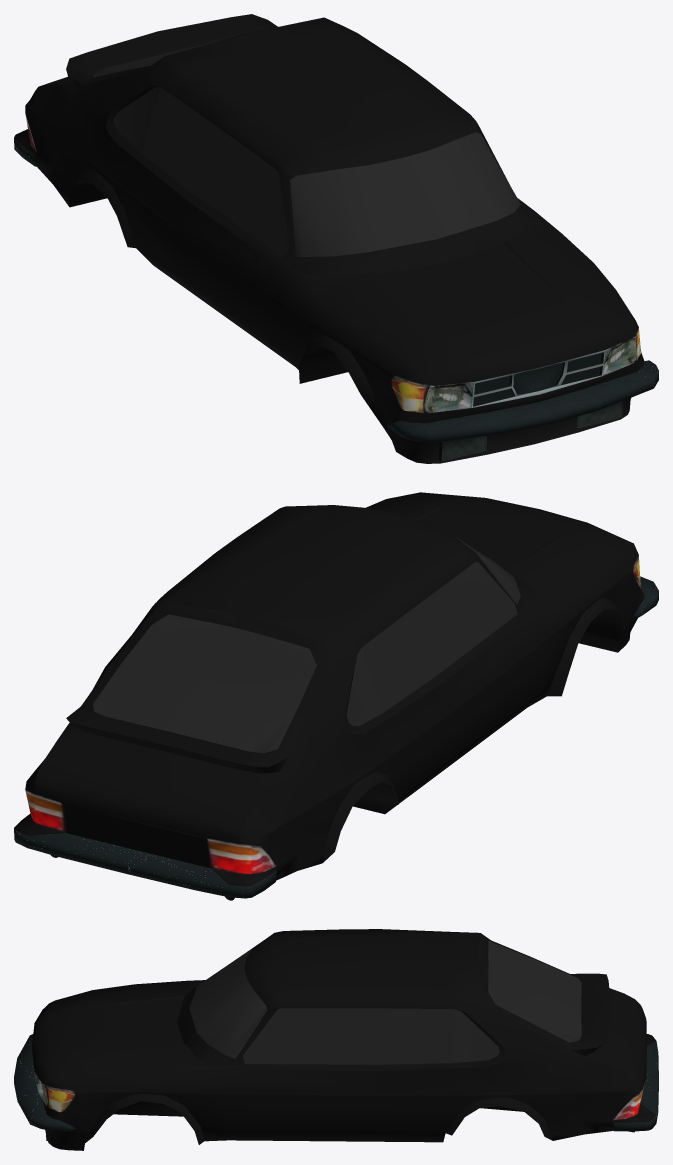
Rendered from RoyalHatchTurbo.fbx.
3 renders of one model, top to bottom at view 1: azimuth 30°, elevation 25°; view 2: azimuth 150°, elevation 25°; view 3: azimuth 270°, elevation 25°, orthographic. The views are drawn at different scales.
Parts seen in each view (by area): view 1: Plane; view 2: Plane; view 3: Plane.
Part boxes in pixels (x1,y1,x2,y2): Plane: (14,14,658,463); Plane: (14,492,658,900); Plane: (14,929,658,1150).
Bounding box in the file's own units: 110 × 77.68 × 294.
Materials: 3 (1 with a texture image).
